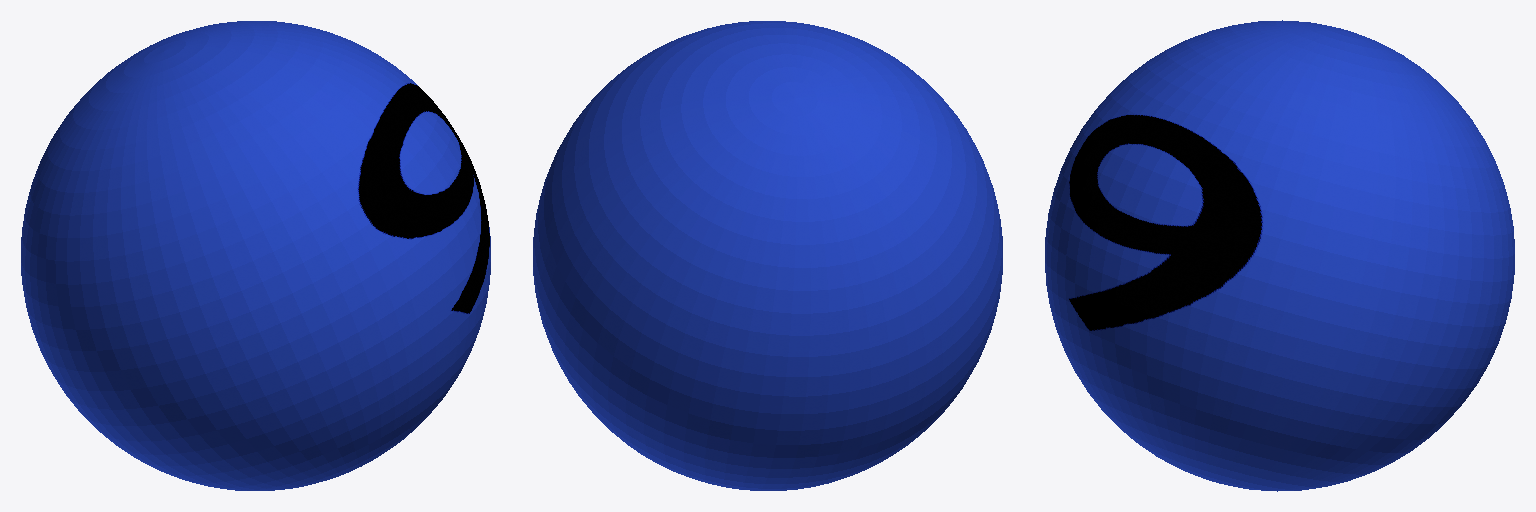
3 views of the same model, side by side, from view 1: azimuth 30°, elevation 25°; view 2: azimuth 150°, elevation 25°; view 3: azimuth 270°, elevation 25° (orthographic).
Parts seen in each view (by area): view 1: Sphere; view 2: Sphere; view 3: Sphere.
Part boxes in pixels (left/top/right/bottom): Sphere: left=21, top=21, right=490, bottom=490; Sphere: left=533, top=21, right=1002, bottom=490; Sphere: left=1045, top=20, right=1514, bottom=491.
Bounding box in the file's own units: 2 × 2 × 2.
1 materials, 1 textured.